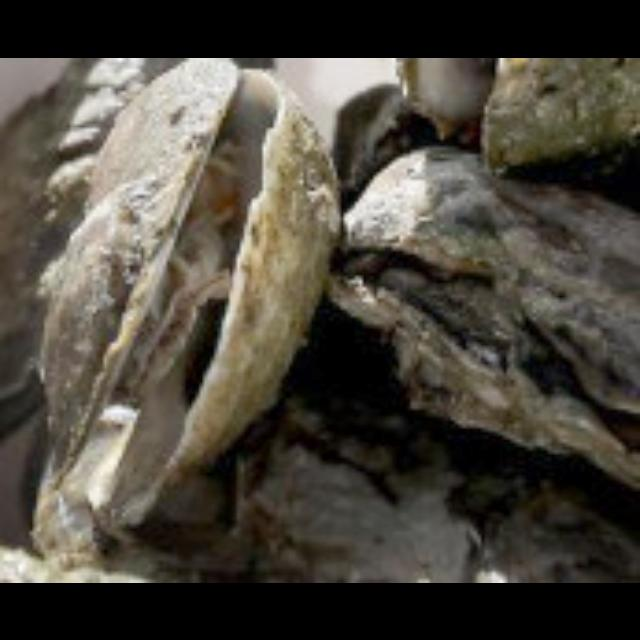Oyster-Closed: (46, 395, 636, 579), (0, 57, 209, 445)
Oyster-Open: (39, 57, 343, 528), (330, 146, 636, 493), (397, 57, 636, 171)
